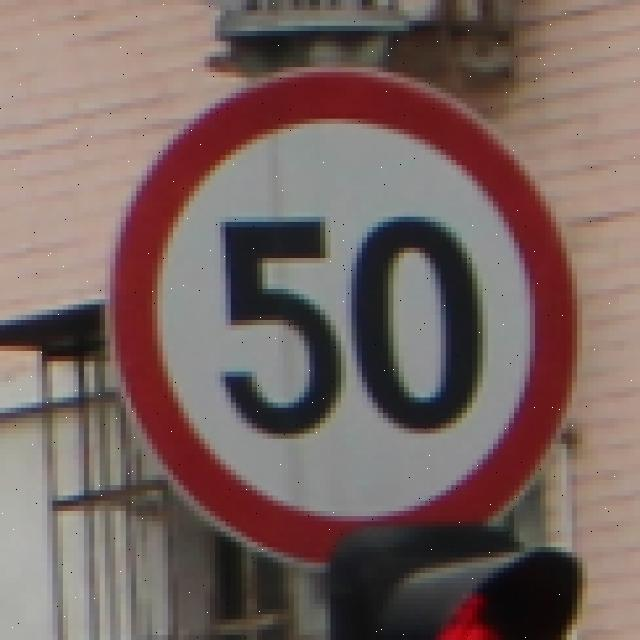speed limit 50: (108, 69, 577, 570)
